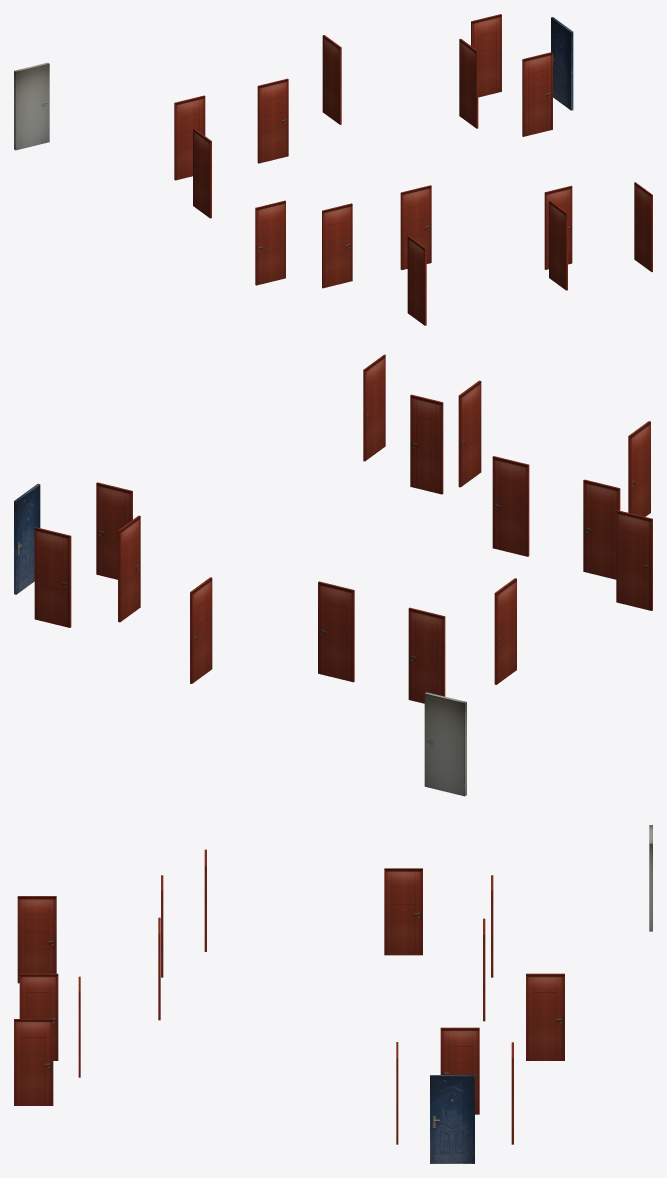
File: ECP_Door.FBX
3 views of the same model, one above another, from view 1: azimuth 30°, elevation 25°; view 2: azimuth 150°, elevation 25°; view 3: azimuth 270°, elevation 25° (orthographic). The views are drawn at different scales.
Visible parts, largest first — view 1: ECP_Door016, ECP_Door007, ECP_Door005, ECP_Door002, ECP_Door001, ECP_Door006, ECP_Door018, ECP_Door008, ECP_Door015, ECP_Door012, ECP_Door009, ECP_Door013 (+4 smaller); view 2: ECP_Door016, ECP_Door006, ECP_Door018, ECP_Door001, ECP_Door007, ECP_Door008, ECP_Door002, ECP_Door004, ECP_Door005, ECP_Door015, ECP_Door010, ECP_Door012 (+4 smaller); view 3: ECP_Door015, ECP_Door011, ECP_Door013, ECP_Door014, ECP_Door009, ECP_Door012, ECP_Door010.
Part boxes in pixels (bbox=[...]): ECP_Door016: bbox=[14, 62, 49, 150]; ECP_Door007: bbox=[257, 78, 288, 163]; ECP_Door005: bbox=[522, 52, 552, 136]; ECP_Door002: bbox=[322, 203, 352, 288]; ECP_Door001: bbox=[255, 200, 285, 285]; ECP_Door006: bbox=[471, 14, 501, 97]; ECP_Door018: bbox=[400, 185, 431, 269]; ECP_Door008: bbox=[174, 95, 205, 180]; ECP_Door015: bbox=[551, 17, 573, 110]; ECP_Door012: bbox=[459, 39, 478, 128]; ECP_Door009: bbox=[407, 236, 426, 325]; ECP_Door013: bbox=[322, 35, 341, 124]; ECP_Door016: bbox=[424, 692, 466, 796]; ECP_Door006: bbox=[34, 527, 71, 627]; ECP_Door018: bbox=[492, 456, 529, 556]; ECP_Door001: bbox=[616, 510, 652, 610]; ECP_Door007: bbox=[318, 581, 354, 682]; ECP_Door008: bbox=[408, 607, 445, 703]; ECP_Door002: bbox=[583, 479, 620, 579]; ECP_Door004: bbox=[410, 394, 443, 494]; ECP_Door005: bbox=[96, 482, 132, 579]; ECP_Door015: bbox=[14, 483, 40, 594]; ECP_Door010: bbox=[458, 380, 481, 487]; ECP_Door012: bbox=[118, 515, 140, 622]; ECP_Door015: bbox=[430, 1075, 474, 1163]; ECP_Door011: bbox=[14, 1019, 53, 1105]; ECP_Door013: bbox=[526, 973, 564, 1060]; ECP_Door014: bbox=[384, 868, 422, 955]; ECP_Door009: bbox=[17, 896, 56, 983]; ECP_Door012: bbox=[440, 1027, 479, 1114]; ECP_Door010: bbox=[19, 973, 58, 1060].
Size of the model in its own units: 1350 by 220 by 1453.
